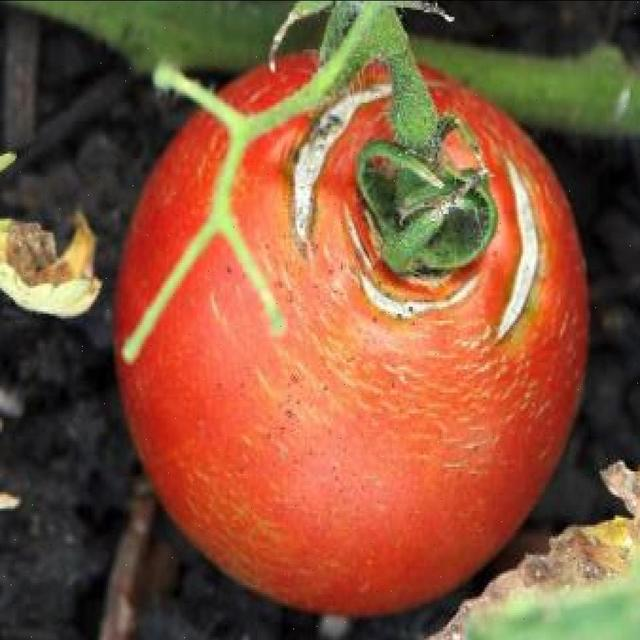Cracking Fruit: (41, 83, 346, 188)
